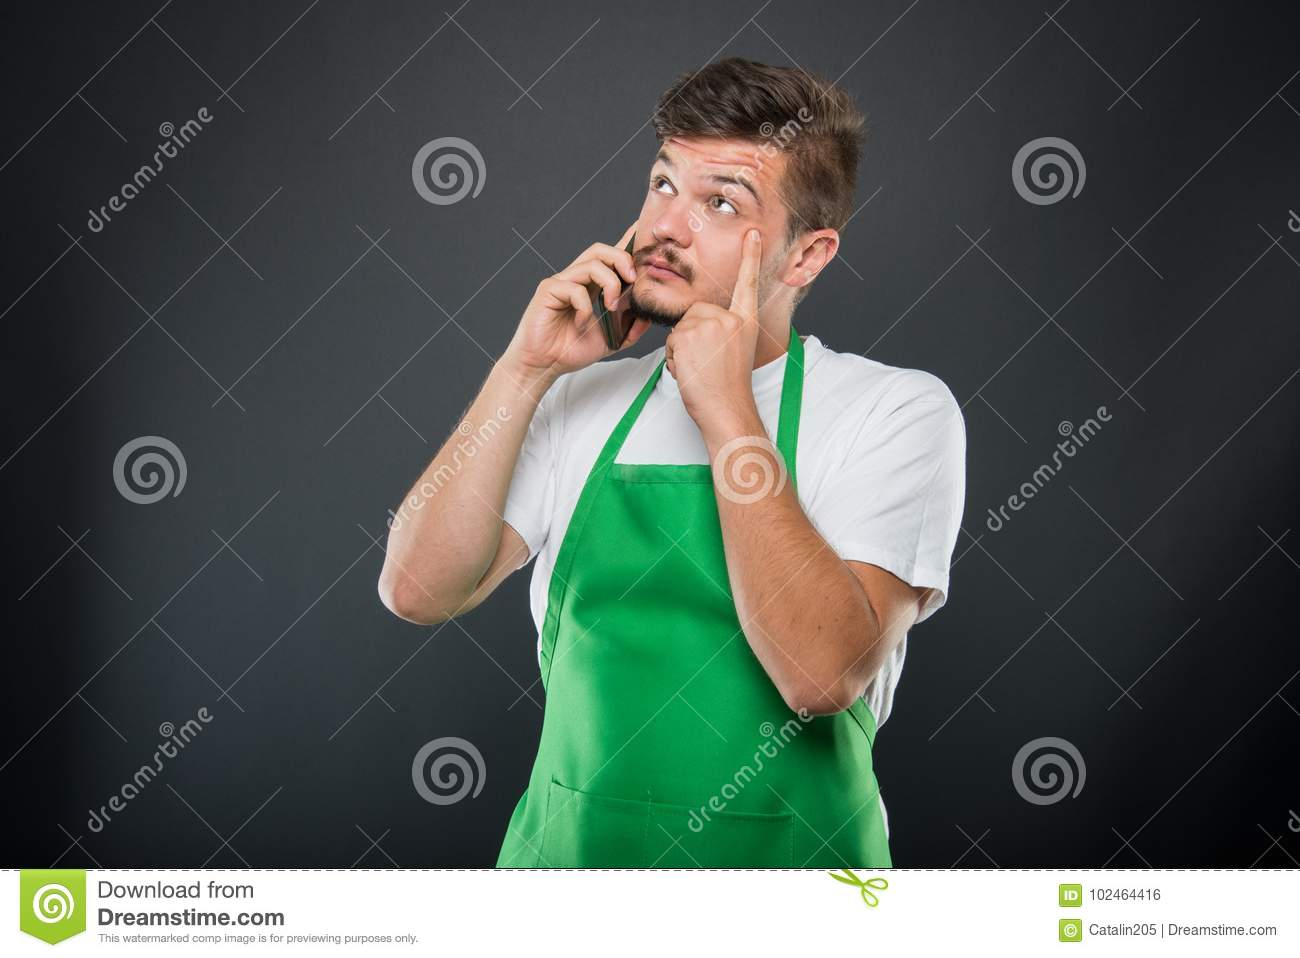phone: (594, 223, 640, 357)
talk: (509, 146, 766, 382)
